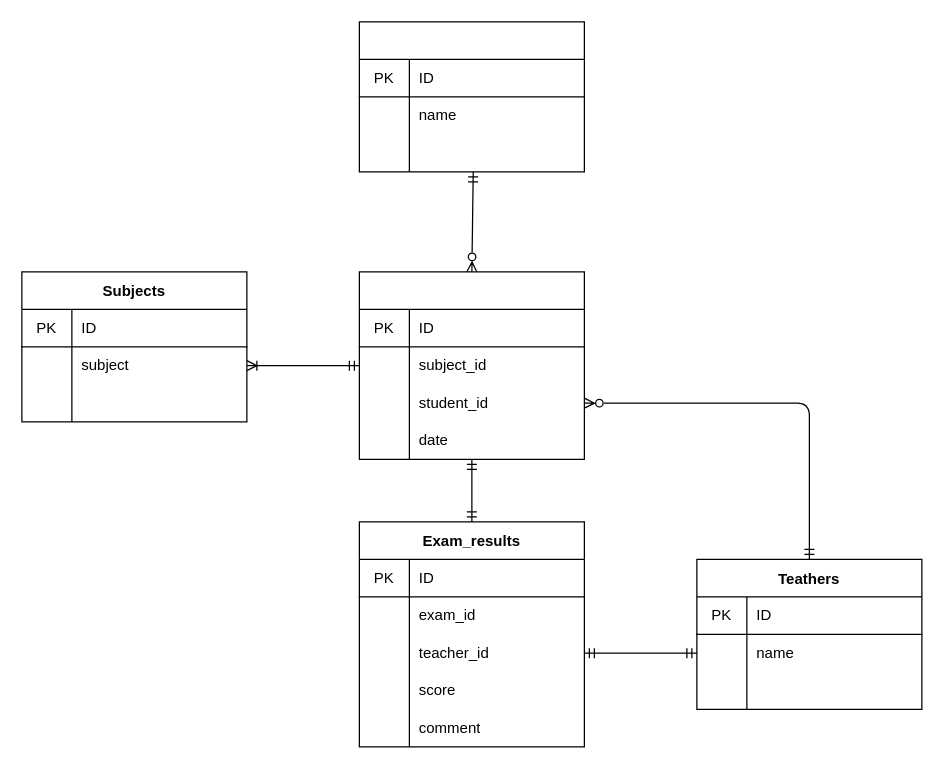
Image size: 944x769. Some labels were removed from this diagram. Here are the shapes that lost their labels. From the top down, the box of each, then its label:
(358, 21, 584, 172): Students
(358, 271, 584, 459): Exames
